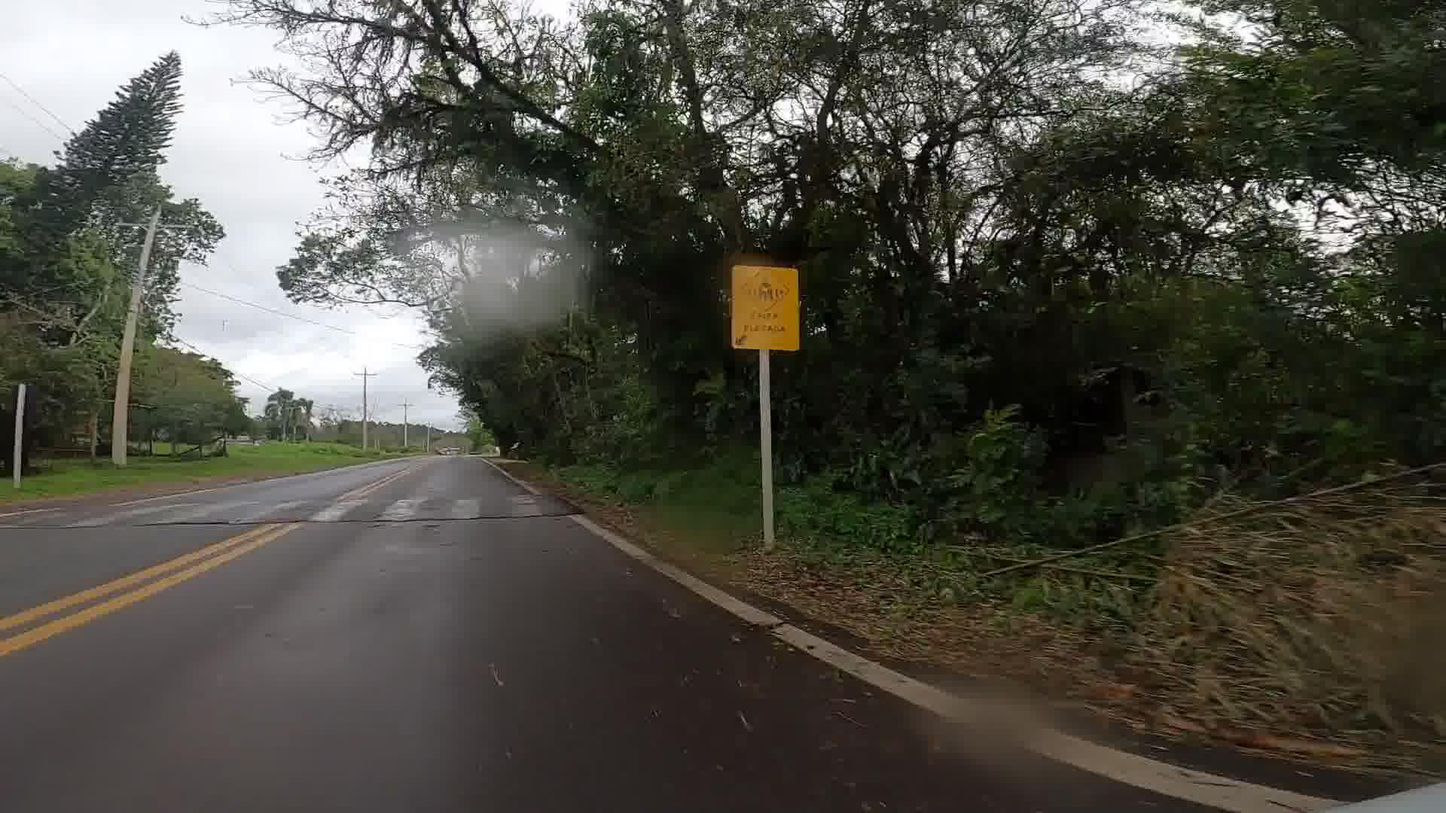A-32b: (741, 269, 791, 318)
